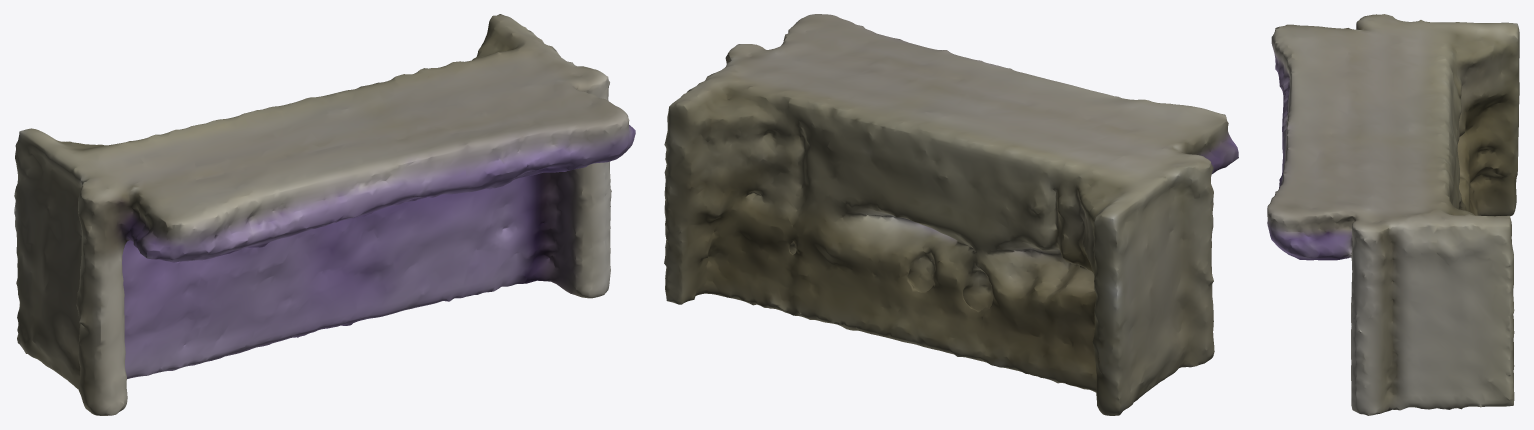
The model's file is sofa.glb.
The picture shows the model from 3 angles, left to right: view 1: azimuth 30°, elevation 25°; view 2: azimuth 150°, elevation 25°; view 3: azimuth 270°, elevation 25°; orthographic projection. The views are drawn at different scales.
Size of the model in its own units: 0.9972 by 0.418 by 0.4832.
